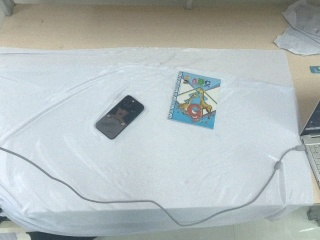book: (166, 68, 224, 131)
phone: (94, 94, 145, 140)
